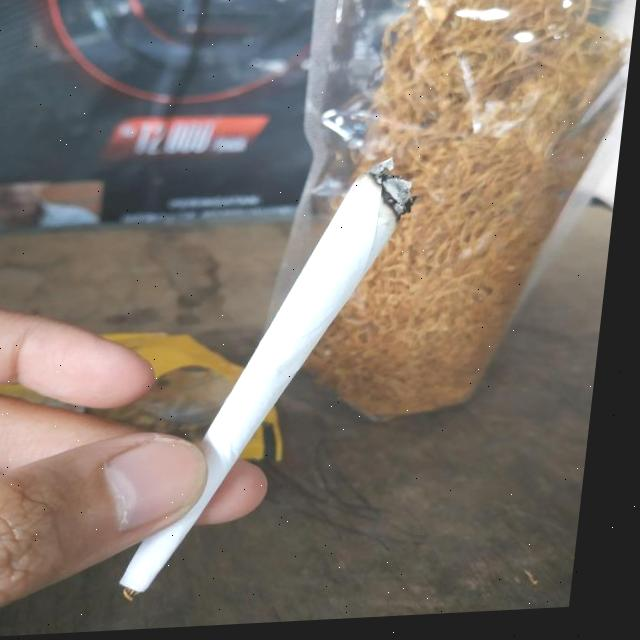cigarette: (135, 165, 426, 593)
